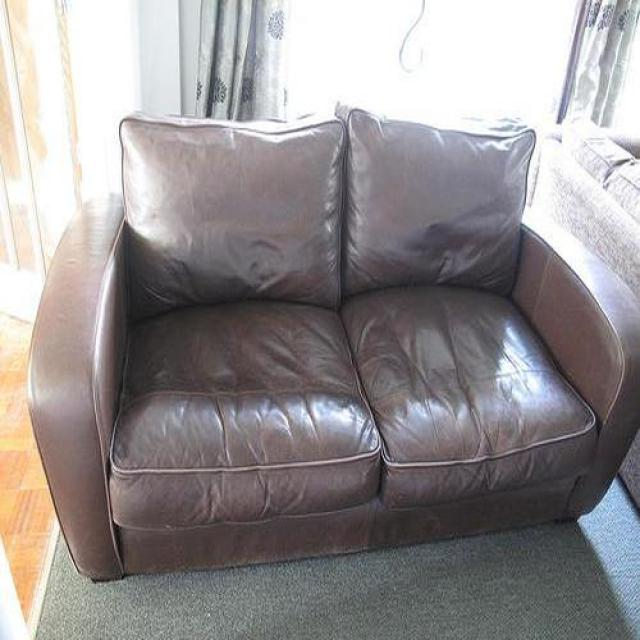sofa: (28, 105, 640, 584)
